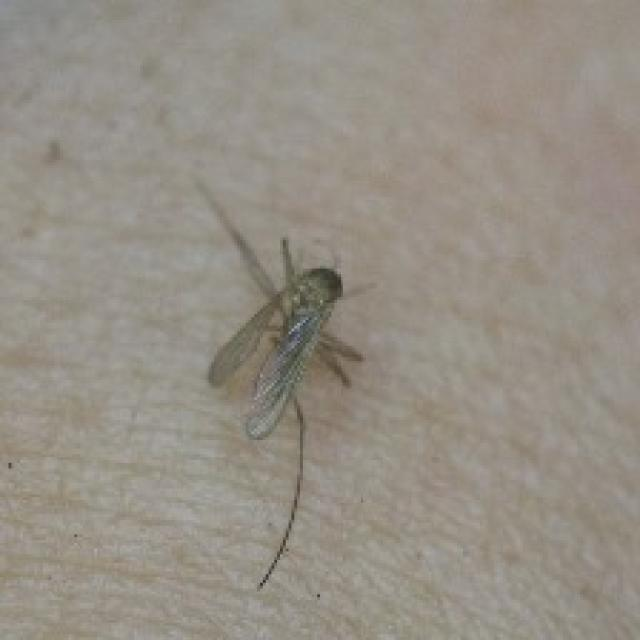culex: (188, 172, 372, 588)
